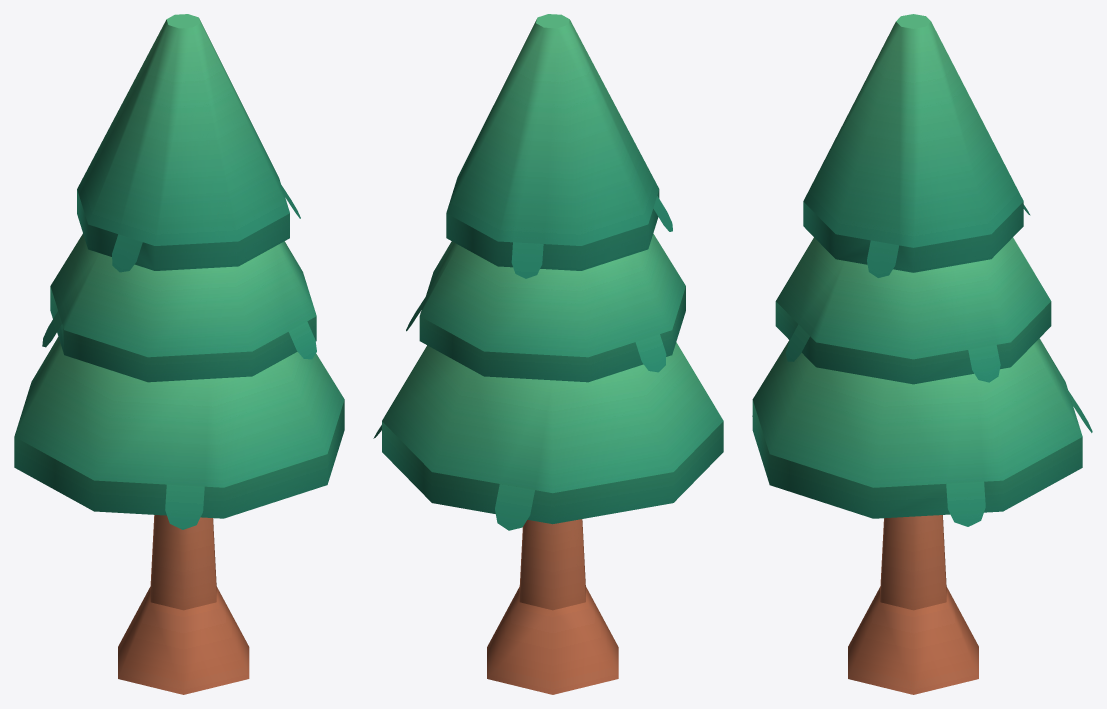
The model's file is tree-large.glb.
3 views of the same model, side by side, from view 1: azimuth 30°, elevation 25°; view 2: azimuth 150°, elevation 25°; view 3: azimuth 270°, elevation 25° (orthographic).
Visible parts, largest first — view 1: tree-large; view 2: tree-large; view 3: tree-large.
Boxes of the visible parts, box(x1,y1,x2,y2) form: tree-large: box(14, 14, 344, 694); tree-large: box(373, 14, 723, 694); tree-large: box(752, 14, 1092, 694).
Bounding box in the file's own units: 0.8886 × 1.85 × 0.8898.
1 material, 1 textured.
